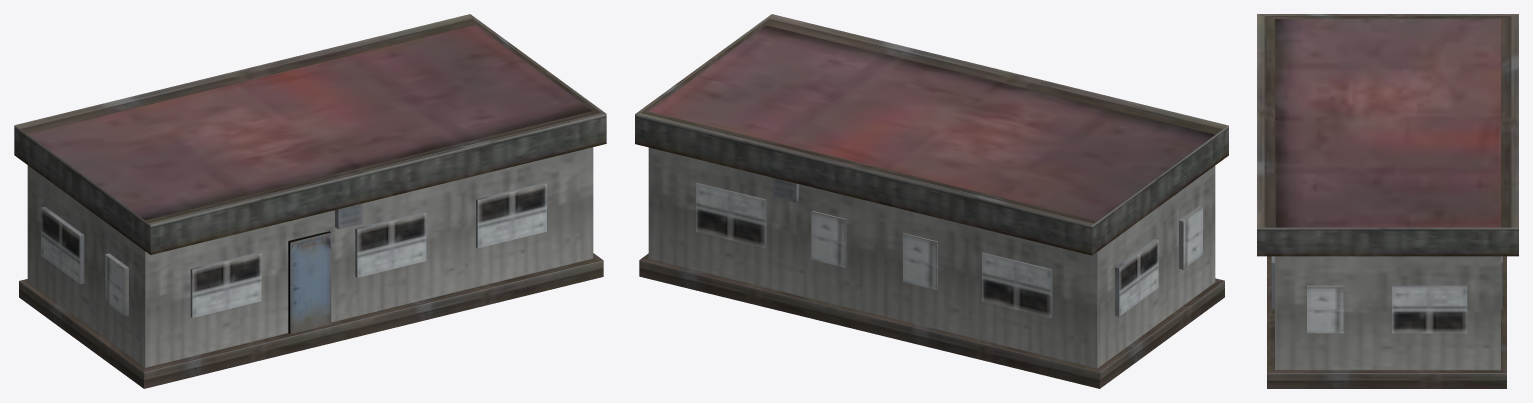
File: ind-office-trailer.lod1.glb
3 views of the same model, side by side, from view 1: azimuth 30°, elevation 25°; view 2: azimuth 150°, elevation 25°; view 3: azimuth 270°, elevation 25° (orthographic). The views are drawn at different scales.
Parts seen in each view (by area): view 1: Industrial_OfficeTrailer_1_Industrial_Walls_FLR_1_0, Industrial_OfficeTrailer_1_Industrial_Trim_FLR_1_0; view 2: Industrial_OfficeTrailer_1_Industrial_Walls_FLR_1_0, Industrial_OfficeTrailer_1_Industrial_Trim_FLR_1_0; view 3: Industrial_OfficeTrailer_1_Industrial_Walls_FLR_1_0, Industrial_OfficeTrailer_1_Industrial_Trim_FLR_1_0.
Part boxes in pixels (box(x1,y1,x2,y2)): Industrial_OfficeTrailer_1_Industrial_Walls_FLR_1_0: box(14, 14, 606, 388); Industrial_OfficeTrailer_1_Industrial_Trim_FLR_1_0: box(41, 182, 546, 334); Industrial_OfficeTrailer_1_Industrial_Walls_FLR_1_0: box(635, 14, 1228, 388); Industrial_OfficeTrailer_1_Industrial_Trim_FLR_1_0: box(696, 178, 1202, 317); Industrial_OfficeTrailer_1_Industrial_Walls_FLR_1_0: box(1257, 14, 1518, 388); Industrial_OfficeTrailer_1_Industrial_Trim_FLR_1_0: box(1271, 256, 1502, 333).
Bounding box in the file's own units: 11.28 × 3.93 × 5.8.
Materials: 2 (2 with a texture image).
